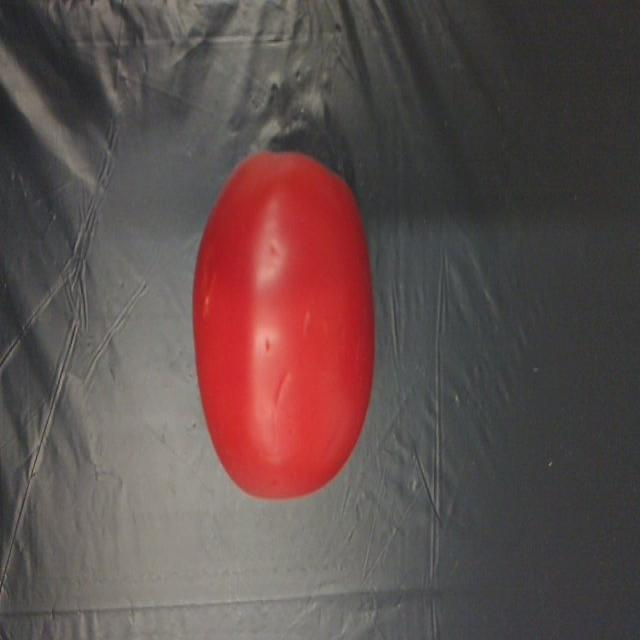kirmizi: (187, 146, 379, 506)
